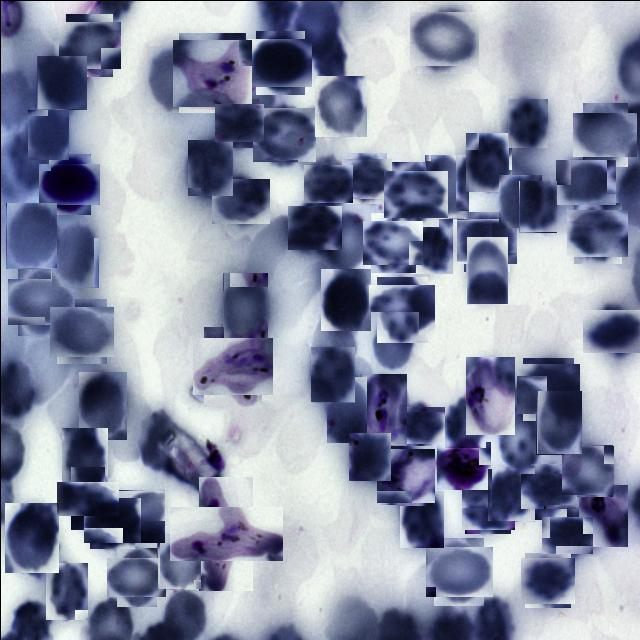gametocyte: (437, 438, 489, 491)
leukocyte: (43, 158, 95, 210)
red blood cell: (412, 8, 474, 70), (4, 502, 58, 572), (254, 104, 312, 164), (428, 542, 488, 600), (372, 280, 431, 338), (5, 202, 56, 268), (146, 45, 196, 112), (52, 302, 110, 359), (78, 371, 126, 439), (50, 219, 98, 287), (12, 273, 69, 330), (519, 360, 576, 417), (251, 34, 308, 90), (314, 75, 366, 136), (322, 208, 370, 274), (222, 272, 267, 341), (320, 268, 370, 330), (387, 166, 442, 222), (61, 17, 116, 72), (570, 205, 624, 260), (536, 390, 582, 454), (586, 304, 640, 358), (578, 107, 632, 161), (368, 311, 418, 369), (61, 427, 107, 490), (465, 236, 507, 304), (464, 132, 511, 192), (424, 154, 468, 218), (558, 155, 611, 208), (498, 407, 540, 473), (460, 215, 512, 268), (366, 216, 419, 268), (112, 489, 164, 542), (214, 175, 266, 227), (86, 493, 138, 545), (36, 55, 86, 109), (326, 376, 366, 442), (186, 139, 232, 196), (562, 444, 612, 496), (486, 467, 534, 521), (399, 488, 443, 546), (309, 346, 354, 402), (522, 554, 572, 604), (462, 481, 512, 531), (290, 202, 340, 252), (44, 562, 87, 620), (111, 552, 160, 602), (157, 533, 200, 589), (62, 473, 111, 522), (410, 218, 452, 273), (498, 174, 541, 227), (26, 109, 68, 160), (444, 395, 485, 447), (525, 468, 571, 514), (506, 98, 547, 148), (344, 154, 388, 200), (544, 512, 590, 556), (348, 432, 390, 480), (518, 180, 556, 232), (397, 403, 441, 447), (305, 161, 349, 205), (217, 100, 260, 144)
trophozoite: (183, 491, 267, 575), (174, 35, 248, 109), (198, 332, 266, 401), (465, 356, 514, 434), (359, 373, 406, 444), (377, 447, 433, 502), (578, 484, 627, 546)
